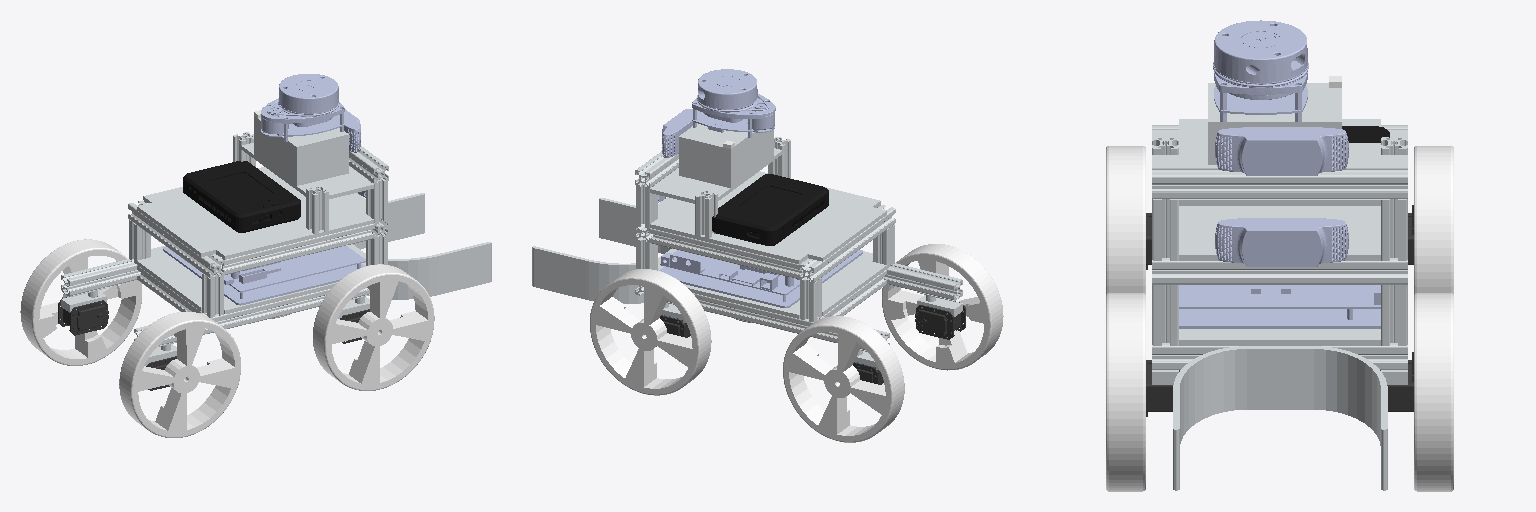
--- What the picture shows (computed from the rendered views, not written in the file) ---
3 views of the same robot in one strip: view 1: azimuth 30°, elevation 25°; view 2: azimuth 150°, elevation 25°; view 3: azimuth 270°, elevation 25° (orthographic).
Robot: model E — 21 links, 20 joints (4 continuous, 4 prismatic, 12 fixed); root link base_link; default pose: all joints at 0.
Links seen in each view (by area): view 1: base_link, right_front_wheel, right_rear_wheel, left_rear_wheel, myrio, pusher, nvidia, lidar, left_rear_wheel_motor, camera2; view 2: base_link, left_front_wheel, left_rear_wheel, right_rear_wheel, myrio, pusher, nvidia, lidar, right_rear_wheel_motor, camera2; view 3: base_link, pusher, nvidia, lidar, left_front_wheel, right_front_wheel, camera, camera2, left_rear_wheel, right_rear_wheel, right_front_wheel_motor, left_front_wheel_motor (+1 smaller).
Link boxes in pixels (x1,y1,x2,y2): base_link: (61, 116, 388, 350); right_front_wheel: (313, 264, 434, 390); right_rear_wheel: (119, 312, 240, 437); left_rear_wheel: (20, 239, 141, 365); myrio: (183, 161, 300, 232); pusher: (353, 193, 491, 299); nvidia: (163, 246, 365, 305); lidar: (261, 74, 344, 141); left_rear_wheel_motor: (58, 297, 108, 335); camera2: (337, 109, 360, 152); base_link: (635, 123, 962, 354); left_front_wheel: (590, 269, 711, 395); left_rear_wheel: (783, 316, 904, 442); right_rear_wheel: (882, 244, 1003, 370); myrio: (712, 174, 828, 245); pusher: (532, 198, 671, 303); nvidia: (659, 250, 862, 307); lidar: (692, 69, 775, 137); right_rear_wheel_motor: (915, 301, 965, 339); camera2: (662, 109, 698, 157); base_link: (1152, 83, 1407, 369); pusher: (1173, 346, 1387, 490); nvidia: (1179, 285, 1380, 328); lidar: (1213, 20, 1308, 121); left_front_wheel: (1414, 293, 1453, 491); right_front_wheel: (1106, 293, 1145, 491); camera: (1215, 218, 1348, 266); camera2: (1215, 127, 1348, 175); left_rear_wheel: (1414, 146, 1453, 293); right_rear_wheel: (1106, 146, 1145, 293); right_front_wheel_motor: (1146, 360, 1179, 416); left_front_wheel_motor: (1380, 352, 1413, 411).
Bounding box of the posed robot: 0.5129 × 0.2595 × 0.3503 m (x, y, z).
Meshes: 21 distinct files referenced, 21 mesh visuals loaded (21 binary STL).

The robot description file, URDF, robot "model E":
<?xml version="1.0" encoding="utf-8"?>
<!-- This URDF was automatically created by SolidWorks to URDF Exporter! Originally created by Stephen Brawner ([email redacted]) 
     Commit Version: 1.5.1-0-g916b5db  Build Version: 1.5.7152.31018
     For more information, please see http://wiki.ros.org/sw_urdf_exporter -->
<robot
  name="model E">
  <link
    name="base_link">
    <inertial>
      <origin
        xyz="-0.104714529659369 -0.0756583061678266 0.0595111932667927"
        rpy="0 0 0" />
      <mass
        value="2.039657590176" />
      <inertia
        ixx="0.00338377050787852"
        ixy="-5.14705744934887E-12"
        ixz="3.78293258758657E-07"
        iyy="0.00557048223435682"
        iyz="-1.31249974376653E-11"
        izz="0.00865851242295108" />
    </inertial>
    <visual>
      <origin
        xyz="0 0 0"
        rpy="0 0 0" />
      <geometry>
        <mesh
          filename="package://model E/meshes/base_link.STL" />
      </geometry>
      <material
        name="">
        <color
          rgba="0.898039215686275 0.917647058823529 0.929411764705882 1" />
      </material>
    </visual>
    <collision>
      <origin
        xyz="0 0 0"
        rpy="0 0 0" />
      <geometry>
        <mesh
          filename="package://model E/meshes/base_link.STL" />
      </geometry>
    </collision>
  </link>
  <link
    name="left_front_wheel_suspension">
    <inertial>
      <origin
        xyz="0.00153023333982288 -0.00499966029225226 -1.33226762955019E-14"
        rpy="0 0 0" />
      <mass
        value="0.0239463719407107" />
      <inertia
        ixx="1.07207044697232E-06"
        ixy="-6.52438708151201E-21"
        ixz="2.00707998982445E-21"
        iyy="5.97423909283024E-06"
        iyz="-9.43965672332998E-23"
        izz="5.30127484486976E-06" />
    </inertial>
    <visual>
      <origin
        xyz="0 0 0"
        rpy="0 0 0" />
      <geometry>
        <mesh
          filename="package://model E/meshes/left_front_wheel_suspension.STL" />
      </geometry>
      <material
        name="">
        <color
          rgba="0.898039215686275 0.917647058823529 0.929411764705882 1" />
      </material>
    </visual>
    <collision>
      <origin
        xyz="0 0 0"
        rpy="0 0 0" />
      <geometry>
        <mesh
          filename="package://model E/meshes/left_front_wheel_suspension.STL" />
      </geometry>
    </collision>
  </link>
  <joint
    name="left_front_wheel_suspension_joint"
    type="prismatic">
    <origin
      xyz="-0.0434986852059649 0.00999781679693001 -0.0309981565046646"
      rpy="1.5707963267949 0 -3.14159265358979" />
    <parent
      link="base_link" />
    <child
      link="left_front_wheel_suspension" />
    <axis
      xyz="0 1 0" />
    <limit
      lower="0"
      upper="0.008"
      effort="1000"
      velocity="1000" />
  </joint>
  <link
    name="left_front_wheel_motor">
    <inertial>
      <origin
        xyz="-2.79575138499299E-05 0.00194907944399025 -0.012936461929611"
        rpy="0 0 0" />
      <mass
        value="0.0411670033844285" />
      <inertia
        ixx="1.15503164126153E-05"
        ixy="-2.96411876568508E-09"
        ixz="-1.64845302072202E-08"
        iyy="6.93803138202262E-06"
        iyz="1.56454773172927E-07"
        izz="9.57898906372989E-06" />
    </inertial>
    <visual>
      <origin
        xyz="0 0 0"
        rpy="0 0 0" />
      <geometry>
        <mesh
          filename="package://model E/meshes/left_front_wheel_motor.STL" />
      </geometry>
      <material
        name="">
        <color
          rgba="0.298039215686275 0.298039215686275 0.298039215686275 1" />
      </material>
    </visual>
    <collision>
      <origin
        xyz="0 0 0"
        rpy="0 0 0" />
      <geometry>
        <mesh
          filename="package://model E/meshes/left_front_wheel_motor.STL" />
      </geometry>
    </collision>
  </link>
  <joint
    name="left_front_wheel_motor_joint"
    type="fixed">
    <origin
      xyz="0.000300000000000022 -0.021785446729879 -0.00999999999999998"
      rpy="3.14159265358979 0 -1.5707963267949" />
    <parent
      link="left_front_wheel_suspension" />
    <child
      link="left_front_wheel_motor" />
    <axis
      xyz="0 0 0" />
    <limit
      effort="3.1"
      velocity="7" />
  </joint>
  <link
    name="left_front_wheel">
    <inertial>
      <origin
        xyz="0.0158391990185285 6.93889390390723E-17 3.1641356201817E-15"
        rpy="0 0 0" />
      <mass
        value="0.22822169800504" />
      <inertia
        ixx="0.0007892115763339"
        ixy="-1.29511436049654E-20"
        ixz="3.9605469886601E-18"
        iyy="0.000410429434291421"
        iyz="-3.74864036442255E-19"
        izz="0.00041042943429142" />
    </inertial>
    <visual>
      <origin
        xyz="0 0 0"
        rpy="0 0 0" />
      <geometry>
        <mesh
          filename="package://model E/meshes/left_front_wheel.STL" />
      </geometry>
      <material
        name="">
        <color
          rgba="1 1 1 1" />
      </material>
    </visual>
    <collision>
      <origin
        xyz="0 0 0"
        rpy="0 0 0" />
      <geometry>
        <mesh
          filename="package://model E/meshes/left_front_wheel.STL" />
      </geometry>
    </collision>
  </link>
  <joint
    name="left_front_wheel_joint"
    type="continuous">
    <origin
      xyz="0 0.0133000000000001 -0.0247499999999968"
      rpy="1.56496784847997 1.5707963267949 0" />
    <parent
      link="left_front_wheel_motor" />
    <child
      link="left_front_wheel" />
    <axis
      xyz="1 0 0" />
    <limit
      effort="3.1"
      velocity="7" />
  </joint>
  <link
    name="right_front_wheel_suspension">
    <inertial>
      <origin
        xyz="0.00153023333982283 -0.0049996602922521 -1.33781874467331E-14"
        rpy="0 0 0" />
      <mass
        value="0.0239463719407107" />
      <inertia
        ixx="1.07207044697232E-06"
        ixy="-5.83575922156161E-21"
        ixz="1.70935421665491E-21"
        iyy="5.97423909283023E-06"
        iyz="5.94336006908878E-23"
        izz="5.30127484486975E-06" />
    </inertial>
    <visual>
      <origin
        xyz="0 0 0"
        rpy="0 0 0" />
      <geometry>
        <mesh
          filename="package://model E/meshes/right_front_wheel_suspension.STL" />
      </geometry>
      <material
        name="">
        <color
          rgba="0.898039215686275 0.917647058823529 0.929411764705882 1" />
      </material>
    </visual>
    <collision>
      <origin
        xyz="0 0 0"
        rpy="0 0 0" />
      <geometry>
        <mesh
          filename="package://model E/meshes/right_front_wheel_suspension.STL" />
      </geometry>
    </collision>
  </link>
  <joint
    name="right_front_wheel_suspension_joint"
    type="prismatic">
    <origin
      xyz="-0.0434986852059649 -0.16000218320307 -0.0309981565046646"
      rpy="1.5707963267949 0 -3.14159265358979" />
    <parent
      link="base_link" />
    <child
      link="right_front_wheel_suspension" />
    <axis
      xyz="0 1 0" />
    <limit
      lower="0"
      upper="0.008"
      effort="1000"
      velocity="1000" />
  </joint>
  <link
    name="right_front_wheel_motor">
    <inertial>
      <origin
        xyz="-2.79575138501173E-05 0.00194907944399023 -0.0129364619296377"
        rpy="0 0 0" />
      <mass
        value="0.0411670033844285" />
      <inertia
        ixx="1.15503164126153E-05"
        ixy="-2.96411876568283E-09"
        ixz="-1.64845302071876E-08"
        iyy="6.93803138202261E-06"
        iyz="1.56454773172928E-07"
        izz="9.57898906372989E-06" />
    </inertial>
    <visual>
      <origin
        xyz="0 0 0"
        rpy="0 0 0" />
      <geometry>
        <mesh
          filename="package://model E/meshes/right_front_wheel_motor.STL" />
      </geometry>
      <material
        name="">
        <color
          rgba="0.298039215686275 0.298039215686275 0.298039215686275 1" />
      </material>
    </visual>
    <collision>
      <origin
        xyz="0 0 0"
        rpy="0 0 0" />
      <geometry>
        <mesh
          filename="package://model E/meshes/right_front_wheel_motor.STL" />
      </geometry>
    </collision>
  </link>
  <joint
    name="right_front_wheel_motor_joint"
    type="fixed">
    <origin
      xyz="0.000299999999999967 -0.021785446729879 0.01"
      rpy="0 0 1.5707963267949" />
    <parent
      link="right_front_wheel_suspension" />
    <child
      link="right_front_wheel_motor" />
    <axis
      xyz="0 0 0" />
    <limit
      effort="3.1"
      velocity="7" />
  </joint>
  <link
    name="right_front_wheel">
    <inertial>
      <origin
        xyz="0.0158391990185559 1.38777878078145E-16 2.22044604925031E-16"
        rpy="0 0 0" />
      <mass
        value="0.22822169800504" />
      <inertia
        ixx="0.0007892115763339"
        ixy="-1.33620923705498E-20"
        ixz="-1.31866672038372E-18"
        iyy="0.000410429434291421"
        iyz="-3.4423948372007E-19"
        izz="0.00041042943429142" />
    </inertial>
    <visual>
      <origin
        xyz="0 0 0"
        rpy="0 0 0" />
      <geometry>
        <mesh
          filename="package://model E/meshes/right_front_wheel.STL" />
      </geometry>
      <material
        name="">
        <color
          rgba="1 1 1 1" />
      </material>
    </visual>
    <collision>
      <origin
        xyz="0 0 0"
        rpy="0 0 0" />
      <geometry>
        <mesh
          filename="package://model E/meshes/right_front_wheel.STL" />
      </geometry>
    </collision>
  </link>
  <joint
    name="right_front_wheel_joint"
    type="continuous">
    <origin
      xyz="0 0.0133 -0.02475"
      rpy="1.57662480510982 1.5707963267949 0" />
    <parent
      link="right_front_wheel_motor" />
    <child
      link="right_front_wheel" />
    <axis
      xyz="1 0 0" />
    <limit
      effort="3.1"
      velocity="7" />
  </joint>
  <link
    name="camera">
    <inertial>
      <origin
        xyz="0.0517232586747391 0.00370936546682629 -0.0103289561839309"
        rpy="0 0 0" />
      <mass
        value="0.0436119950287127" />
      <inertia
        ixx="4.2947913359115E-06"
        ixy="8.85791114043182E-10"
        ixz="1.01813691672184E-09"
        iyy="2.21058141232449E-05"
        iyz="2.17579681215416E-08"
        izz="2.35707058046401E-05" />
    </inertial>
    <visual>
      <origin
        xyz="0 0 0"
        rpy="0 0 0" />
      <geometry>
        <mesh
          filename="package://model E/meshes/camera.STL" />
      </geometry>
      <material
        name="">
        <color
          rgba="0.792156862745098 0.819607843137255 0.933333333333333 1" />
      </material>
    </visual>
    <collision>
      <origin
        xyz="0 0 0"
        rpy="0 0 0" />
      <geometry>
        <mesh
          filename="package://model E/meshes/camera.STL" />
      </geometry>
    </collision>
  </link>
  <joint
    name="camera"
    type="fixed">
    <origin
      xyz="0.0014999999999995 -0.125209163861569 0.0949978167969171"
      rpy="-1.57662480510982 0 1.5707963267949" />
    <parent
      link="base_link" />
    <child
      link="camera" />
    <axis
      xyz="0 0 0" />
  </joint>
  <link
    name="myrio">
    <inertial>
      <origin
        xyz="-5.92450278861234E-05 -0.0201677348757046 0.000391328969370219"
        rpy="0 0 0" />
      <mass
        value="0.272795037150938" />
      <inertia
        ixx="0.000426495369649312"
        ixy="-1.33941181513965E-07"
        ixz="-1.32777557424164E-06"
        iyy="0.000584026336355448"
        iyz="-9.7817502168282E-08"
        izz="0.000183119671370759" />
    </inertial>
    <visual>
      <origin
        xyz="0 0 0"
        rpy="0 0 0" />
      <geometry>
        <mesh
          filename="package://model E/meshes/myrio.STL" />
      </geometry>
      <material
        name="">
        <color
          rgba="0.149019607843137 0.149019607843137 0.149019607843137 1" />
      </material>
    </visual>
    <collision>
      <origin
        xyz="0 0 0"
        rpy="0 0 0" />
      <geometry>
        <mesh
          filename="package://model E/meshes/myrio.STL" />
      </geometry>
    </collision>
  </link>
  <joint
    name="myrio"
    type="fixed">
    <origin
      xyz="-0.132328685205965 -0.0607515419551877 0.106997816796917"
      rpy="1.5707963267949 0 -3.14159265358979" />
    <parent
      link="base_link" />
    <child
      link="myrio" />
    <axis
      xyz="0 0 0" />
  </joint>
  <link
    name="intel">
    <inertial>
      <origin
        xyz="-5.69397911928671E-05 0.0158670533538889 0.0550835448418937"
        rpy="0 0 0" />
      <mass
        value="0.399542896483029" />
      <inertia
        ixx="0.00043202912775909"
        ixy="-1.83383124387173E-07"
        ixz="-3.17164968943055E-07"
        iyy="0.000836965270424737"
        iyz="4.77447001830876E-07"
        izz="0.000473016843888514" />
    </inertial>
    <visual>
      <origin
        xyz="0 0 0"
        rpy="0 0 0" />
      <geometry>
        <mesh
          filename="package://model E/meshes/intel.STL" />
      </geometry>
      <material
        name="">
        <color
          rgba="0.792156862745098 0.819607843137255 0.933333333333333 1" />
      </material>
    </visual>
    <collision>
      <origin
        xyz="0 0 0"
        rpy="0 0 0" />
      <geometry>
        <mesh
          filename="package://model E/meshes/intel.STL" />
      </geometry>
    </collision>
  </link>
  <joint
    name="intel"
    type="fixed">
    <origin
      xyz="-0.075998685205965 -0.137016341790378 -0.032"
      rpy="1.5707963267949 0 -3.14159265358979" />
    <parent
      link="base_link" />
    <child
      link="intel" />
    <axis
      xyz="0 0 0" />
  </joint>
  <link
    name="nvidia">
    <inertial>
      <origin
        xyz="-0.0188105898914398 0.010249818915933 -0.167172080419149"
        rpy="0 0 0" />
      <mass
        value="0.240394331617002" />
      <inertia
        ixx="0.000357684284600866"
        ixy="-3.61913558195585E-09"
        ixz="-2.92942384657882E-07"
        iyy="0.000746477971691014"
        iyz="4.03533275235886E-06"
        izz="0.000399399110650853" />
    </inertial>
    <visual>
      <origin
        xyz="0 0 0"
        rpy="0 0 0" />
      <geometry>
        <mesh
          filename="package://model E/meshes/nvidia.STL" />
      </geometry>
      <material
        name="">
        <color
          rgba="0.792156862745098 0.819607843137255 0.933333333333333 1" />
      </material>
    </visual>
    <collision>
      <origin
        xyz="0 0 0"
        rpy="0 0 0" />
      <geometry>
        <mesh
          filename="package://model E/meshes/nvidia.STL" />
      </geometry>
    </collision>
  </link>
  <joint
    name="nvidia"
    type="fixed">
    <origin
      xyz="-0.289203685205967 -0.0544296391241932 0.0291347763919735"
      rpy="-1.58245328342473 0 1.5707963267949" />
    <parent
      link="base_link" />
    <child
      link="nvidia" />
    <axis
      xyz="0 0 0" />
  </joint>
  <link
    name="pusher ">
    <inertial>
      <origin
        xyz="1.49052246378734E-07 -0.0571598291229854 0.0249999642066829"
        rpy="0 0 0" />
      <mass
        value="0.263435595666134" />
      <inertia
        ixx="0.000635540559778356"
        ixy="-1.38140656260104E-09"
        ixz="2.75184484310105E-11"
        iyy="0.00115953576629363"
        iyz="-1.30019557403535E-19"
        izz="0.00168531125573657" />
    </inertial>
    <visual>
      <origin
        xyz="0 0 0"
        rpy="0 0 0" />
      <geometry>
        <mesh
          filename="package://model E/meshes/pusher .STL" />
      </geometry>
      <material
        name="">
        <color
          rgba="0.898039215686275 0.917647058823529 0.929411764705882 1" />
      </material>
    </visual>
    <collision>
      <origin
        xyz="0 0 0"
        rpy="0 0 0" />
      <geometry>
        <mesh
          filename="package://model E/meshes/pusher .STL" />
      </geometry>
    </collision>
  </link>
  <joint
    name="pusher "
    type="fixed">
    <origin
      xyz="0.00132898822388253 -0.0747141525330136 0"
      rpy="-3.14159265358979 0 -1.5707963267949" />
    <parent
      link="base_link" />
    <child
      link="pusher " />
    <axis
      xyz="0 0 0" />
    <limit
      lower="0"
      upper="0"
      effort="0"
      velocity="0" />
  </joint>
  <link
    name="camera2">
    <inertial>
      <origin
        xyz="0.0517232586747381 0.0237090257561929 0.00928761272236955"
        rpy="0 0 0" />
      <mass
        value="0.0436119950287125" />
      <inertia
        ixx="4.29479133591148E-06"
        ixy="8.85791114052883E-10"
        ixz="1.0181369167975E-09"
        iyy="2.21058141232446E-05"
        iyz="2.17579681215359E-08"
        izz="2.35707058046397E-05" />
    </inertial>
    <visual>
      <origin
        xyz="0 0 0"
        rpy="0 0 0" />
      <geometry>
        <mesh
          filename="package://model E/meshes/camera2.STL" />
      </geometry>
      <material
        name="">
        <color
          rgba="0.792156862745098 0.819607843137255 0.933333333333333 1" />
      </material>
    </visual>
    <collision>
      <origin
        xyz="0 0 0"
        rpy="0 0 0" />
      <geometry>
        <mesh
          filename="package://model E/meshes/camera2.STL" />
      </geometry>
    </collision>
  </link>
  <joint
    name="camera2"
    type="fixed">
    <origin
      xyz="0 -0.125209163861569 0.179995633593833"
      rpy="-1.57662480510982 0 1.5707963267949" />
    <parent
      link="base_link" />
    <child
      link="camera2" />
    <axis
      xyz="0 0 0" />
  </joint>
  <link
    name="left_rear_wheel_suspension">
    <inertial>
      <origin
        xyz="0.00153023333982272 -0.00499966029225212 -1.33226762955019E-14"
        rpy="0 0 0" />
      <mass
        value="0.0239463719407108" />
      <inertia
        ixx="1.07207044697232E-06"
        ixy="7.66755068806029E-21"
        ixz="7.36525819016063E-22"
        iyy="5.97423909283024E-06"
        iyz="1.98119697632812E-22"
        izz="5.30127484486976E-06" />
    </inertial>
    <visual>
      <origin
        xyz="0 0 0"
        rpy="0 0 0" />
      <geometry>
        <mesh
          filename="package://model E/meshes/left_rear_wheel_suspension.STL" />
      </geometry>
      <material
        name="">
        <color
          rgba="0.898039215686275 0.917647058823529 0.929411764705882 1" />
      </material>
    </visual>
    <collision>
      <origin
        xyz="0 0 0"
        rpy="0 0 0" />
      <geometry>
        <mesh
          filename="package://model E/meshes/left_rear_wheel_suspension.STL" />
      </geometry>
    </collision>
  </link>
  <joint
    name="left_rear_wheel_suspension_joint"
    type="prismatic">
    <origin
      xyz="-0.303498685205965 0.0099991315909651 -0.0310931530243717"
      rpy="1.5707963267949 0 -3.14159265358979" />
    <parent
      link="base_link" />
    <child
      link="left_rear_wheel_suspension" />
    <axis
      xyz="0 1 0" />
    <limit
      lower="0"
      upper="0.008"
      effort="1000"
      velocity="1000" />
  </joint>
  <link
    name="left_rear_wheel_motor">
    <inertial>
      <origin
        xyz="-2.79575138500826E-05 0.0019490794439902 -0.012936461929611"
        rpy="0 0 0" />
      <mass
        value="0.0411670033844285" />
      <inertia
        ixx="1.15503164126153E-05"
        ixy="-2.96411876568248E-09"
        ixz="-1.64845302072135E-08"
        iyy="6.93803138202261E-06"
        iyz="1.56454773172934E-07"
        izz="9.5789890637299E-06" />
    </inertial>
    <visual>
      <origin
        xyz="0 0 0"
        rpy="0 0 0" />
      <geometry>
        <mesh
          filename="package://model E/meshes/left_rear_wheel_motor.STL" />
      </geometry>
      <material
        name="">
        <color
          rgba="0.298039215686275 0.298039215686275 0.298039215686275 1" />
      </material>
    </visual>
    <collision>
      <origin
        xyz="0 0 0"
        rpy="0 0 0" />
      <geometry>
        <mesh
          filename="package://model E/meshes/left_rear_wheel_motor.STL" />
      </geometry>
    </collision>
  </link>
  <joint
    name="left_rear_wheel_motor_joint"
    type="fixed">
    <origin
      xyz="-0.000300000000000022 -0.021785446729879 -0.01"
      rpy="3.14159265358979 0 -1.5707963267949" />
    <parent
      link="left_rear_wheel_suspension" />
    <child
      link="left_rear_wheel_motor" />
    <axis
      xyz="0 0 0" />
    <limit
      effort="3.1"
      velocity="7" />
  </joint>
  <link
    name="left_rear_wheel">
    <inertial>
      <origin
        xyz="0.0158391990185301 -2.42861286636753E-16 3.21964677141295E-15"
        rpy="0 0 0" />
      <mass
        value="0.22822169800504" />
      <inertia
        ixx="0.000789211576333901"
        ixy="2.42875049709275E-21"
        ixz="3.9306099919783E-18"
        iyy="0.000410429434291421"
        iyz="-3.23990102324771E-19"
        izz="0.00041042943429142" />
    </inertial>
    <visual>
      <origin
        xyz="0 0 0"
        rpy="0 0 0" />
      <geometry>
        <mesh
          filename="package://model E/meshes/left_rear_wheel.STL" />
      </geometry>
      <material
        name="">
        <color
          rgba="1 1 1 1" />
      </material>
    </visual>
    <collision>
      <origin
        xyz="0 0 0"
        rpy="0 0 0" />
      <geometry>
        <mesh
          filename="package://model E/meshes/left_rear_wheel.STL" />
      </geometry>
    </collision>
  </link>
  <joint
    name="left_rear_wheel_joint"
    type="continuous">
    <origin
      xyz="0 0.0133 -0.0247499999999941"
      rpy="1.56496784847997 1.5707963267949 0" />
    <parent
      link="left_rear_wheel_motor" />
    <child
      link="left_rear_wheel" />
    <axis
      xyz="1 0 0" />
    <limit
      effort="3.1"
      velocity="7" />
  </joint>
  <link
    name="imu">
    <inertial>
      <origin
        xyz="2.77555756156289E-17 0.00250000000000003 -6.7168492989822E-15"
        rpy="0 0 0" />
      <mass
        value="0.00051" />
      <inertia
        ixx="5.31250000000001E-09"
        ixy="-5.68363553703428E-24"
        ixz="2.58385040433221E-26"
        iyy="8.50000000000001E-09"
        iyz="-3.03970468896484E-25"
        izz="5.3125E-09" />
    </inertial>
    <visual>
      <origin
        xyz="0 0 0"
        rpy="0 0 0" />
      <geometry>
        <mesh
          filename="package://model E/meshes/imu.STL" />
      </geometry>
      <material
        name="">
        <color
          rgba="1 1 1 1" />
      </material>
    </visual>
    <collision>
      <origin
        xyz="0 0 0"
        rpy="0 0 0" />
      <geometry>
        <mesh
          filename="package://model E/meshes/imu.STL" />
      </geometry>
    </collision>
  </link>
  <joint
    name="imu"
    type="fixed">
    <origin
      xyz="-0.0935 -0.0337515419551943 0.169997816796917"
      rpy="1.5707963267949 0 -3.14159265358979" />
    <parent
      link="base_link" />
    <child
      link="imu" />
    <axis
      xyz="0 0 0" />
  </joint>
  <link
    name="right_rear_wheel_suspension">
    <inertial>
      <origin
        xyz="0.00153023333982272 -0.00499966029225211 -1.33781874467331E-14"
        rpy="0 0 0" />
      <mass
        value="0.0239463719407107" />
      <inertia
        ixx="1.07207044697232E-06"
        ixy="7.23534881800133E-21"
        ixz="1.26887132181039E-21"
        iyy="5.97423909283022E-06"
        iyz="7.63453947512923E-23"
        izz="5.30127484486975E-06" />
    </inertial>
    <visual>
      <origin
        xyz="0 0 0"
        rpy="0 0 0" />
      <geometry>
        <mesh
          filename="package://model E/meshes/right_rear_wheel_suspension.STL" />
      </geometry>
      <material
        name="">
        <color
          rgba="0.898039215686275 0.917647058823529 0.929411764705882 1" />
      </material>
    </visual>
    <collision>
      <origin
        xyz="0 0 0"
        rpy="0 0 0" />
      <geometry>
        <mesh
          filename="package://model E/meshes/right_rear_wheel_suspension.STL" />
      </geometry>
    </collision>
  </link>
  <joint
    name="right_rear_wheel_suspension_joint"
    type="prismatic">
    <origin
      xyz="-0.303498685205965 -0.16000218320307 -0.0309981565046646"
      rpy="1.5707963267949 0 -3.14159265358979" />
    <parent
      link="base_link" />
    <child
      link="right_rear_wheel_suspension" />
    <axis
      xyz="0 1 0" />
    <limit
      lower="0"
      upper="0.008"
      effort="1000"
      velocity="1000" />
  </joint>
  <link
    name="right_rear_wheel_motor">
    <inertial>
      <origin
        xyz="-2.79575138501451E-05 0.00194907944399003 -0.0129364619296377"
        rpy="0 0 0" />
      <mass
        value="0.0411670033844286" />
      <inertia
        ixx="1.15503164126153E-05"
        ixy="-2.96411876568347E-09"
        ixz="-1.64845302071882E-08"
        iyy="6.93803138202262E-06"
        iyz="1.56454773172921E-07"
        izz="9.5789890637299E-06" />
    </inertial>
    <visual>
      <origin
        xyz="0 0 0"
        rpy="0 0 0" />
      <geometry>
        <mesh
          filename="package://model E/meshes/right_rear_wheel_motor.STL" />
      </geometry>
      <material
        name="">
        <color
          rgba="0.298039215686275 0.298039215686275 0.298039215686275 1" />
      </material>
    </visual>
    <collision>
      <origin
        xyz="0 0 0"
        rpy="0 0 0" />
      <geometry>
        <mesh
          filename="package://model E/meshes/right_rear_wheel_motor.STL" />
      </geometry>
    </collision>
  </link>
  <joint
    name="right_rear_wheel_motor_joint"
    type="fixed">
    <origin
      xyz="-0.000300000000000245 -0.021785446729879 0.01"
      rpy="0 0 1.5707963267949" />
    <parent
      link="right_rear_wheel_suspension" />
    <child
      link="right_rear_wheel_motor" />
    <axis
      xyz="0 0 0" />
    <limit
      effort="3.1"
      velocity="7" />
  </joint>
  <link
    name="right_rear_wheel">
    <inertial>
      <origin
        xyz="0.0158391990185559 1.11022302462516E-16 3.33066907387547E-16"
        rpy="0 0 0" />
      <mass
        value="0.22822169800504" />
      <inertia
        ixx="0.0007892115763339"
        ixy="-7.28986713575642E-21"
        ixz="-1.32463115297966E-18"
        iyy="0.000410429434291421"
        iyz="-3.50419840276483E-19"
        izz="0.00041042943429142" />
    </inertial>
    <visual>
      <origin
        xyz="0 0 0"
        rpy="0 0 0" />
      <geometry>
        <mesh
          filename="package://model E/meshes/right_rear_wheel.STL" />
      </geometry>
      <material
        name="">
        <color
          rgba="1 1 1 1" />
      </material>
    </visual>
    <collision>
      <origin
        xyz="0 0 0"
        rpy="0 0 0" />
      <geometry>
        <mesh
          filename="package://model E/meshes/right_rear_wheel.STL" />
      </geometry>
    </collision>
  </link>
  <joint
    name="right_rear_wheel_joint"
    type="continuous">
    <origin
      xyz="0 0.0132999999999999 -0.0247500000000009"
      rpy="1.57662480510982 1.5707963267949 0" />
    <parent
      link="right_rear_wheel_motor" />
    <child
      link="right_rear_wheel" />
    <axis
      xyz="1 0 0" />
    <limit
      effort="3.1"
      velocity="7" />
  </joint>
  <link
    name="lidar">
    <inertial>
      <origin
        xyz="-0.0105402306594991 0.00106240512534861 -0.0287039399126608"
        rpy="0 0 0" />
      <mass
        value="0.0730845732758985" />
      <inertia
        ixx="1.95866113931289E-05"
        ixy="-1.03986742376569E-07"
        ixz="5.55639003935619E-07"
        iyy="2.4125008210742E-05"
        iyz="-8.82143173765559E-09"
        izz="4.14127165530242E-05" />
    </inertial>
    <visual>
      <origin
        xyz="0 0 0"
        rpy="0 0 0" />
      <geometry>
        <mesh
          filename="package://model E/meshes/lidar.STL" />
      </geometry>
      <material
        name="">
        <color
          rgba="0.792156862745098 0.819607843137255 0.933333333333333 1" />
      </material>
    </visual>
    <collision>
      <origin
        xyz="0 0 0"
        rpy="0 0 0" />
      <geometry>
        <mesh
          filename="package://model E/meshes/lidar.STL" />
      </geometry>
    </collision>
  </link>
  <joint
    name="lidar_joint"
    type="fixed">
    <origin
      xyz="-0.0610742390865666 -0.0897535752601977 0.223497816796913"
      rpy="0 -0.00582847831492397 0" />
    <parent
      link="base_link" />
    <child
      link="lidar" />
    <axis
      xyz="0 0 0" />
  </joint>
</robot>
